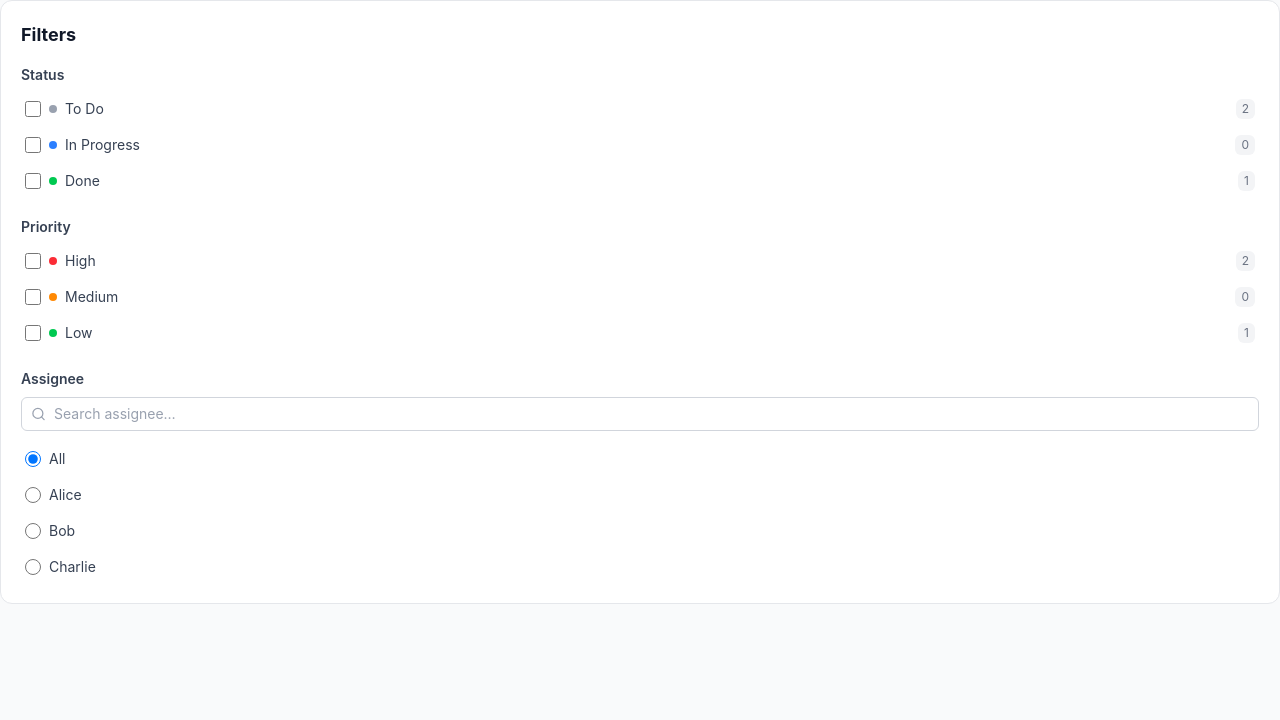
Scenario: TaskFilters › toggling a status checkbox checks it and reveals 'Clear all'
The width and height of the screenshot is (1280, 720).
Check: the text "Clear all" is not shown
Click the checkbox labelled "To Do 2": {"x": 33, "y": 109} [25,101,41,117]
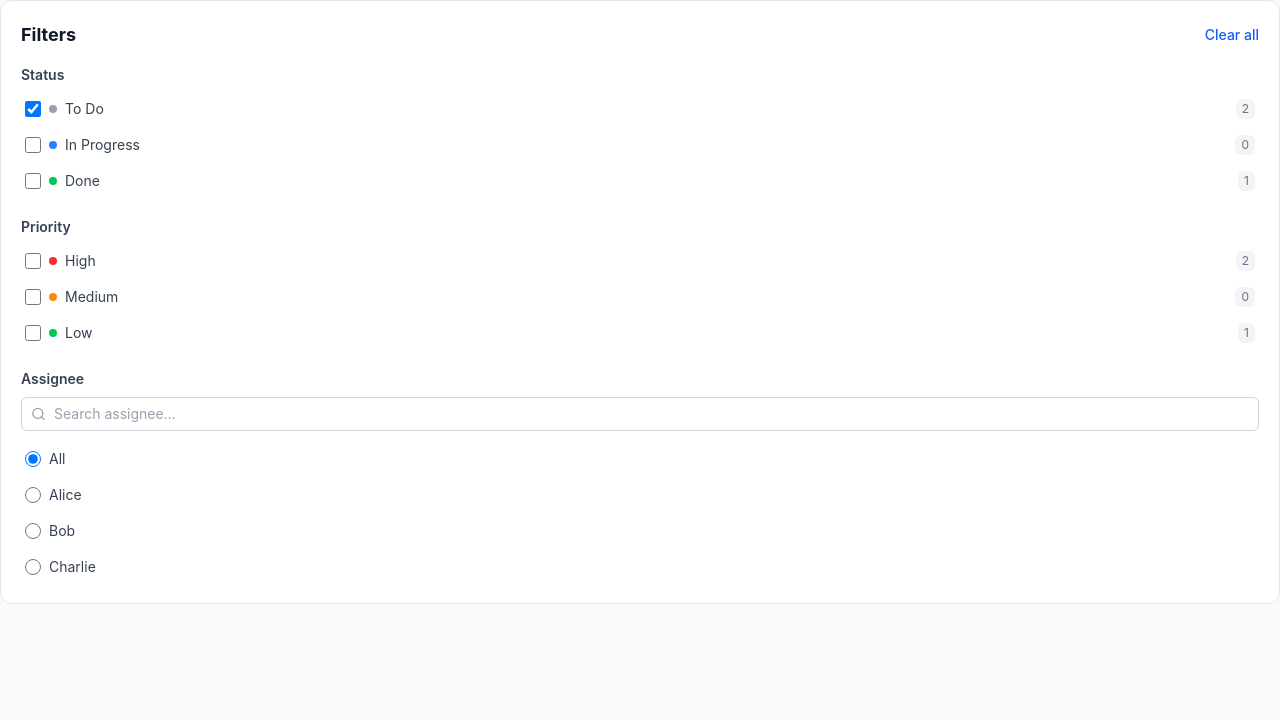
Check: the checkbox labelled "To Do 2" is checked, box [25,101,41,117]
Check: the button "Clear all" is shown, box [1205,25,1259,45]
